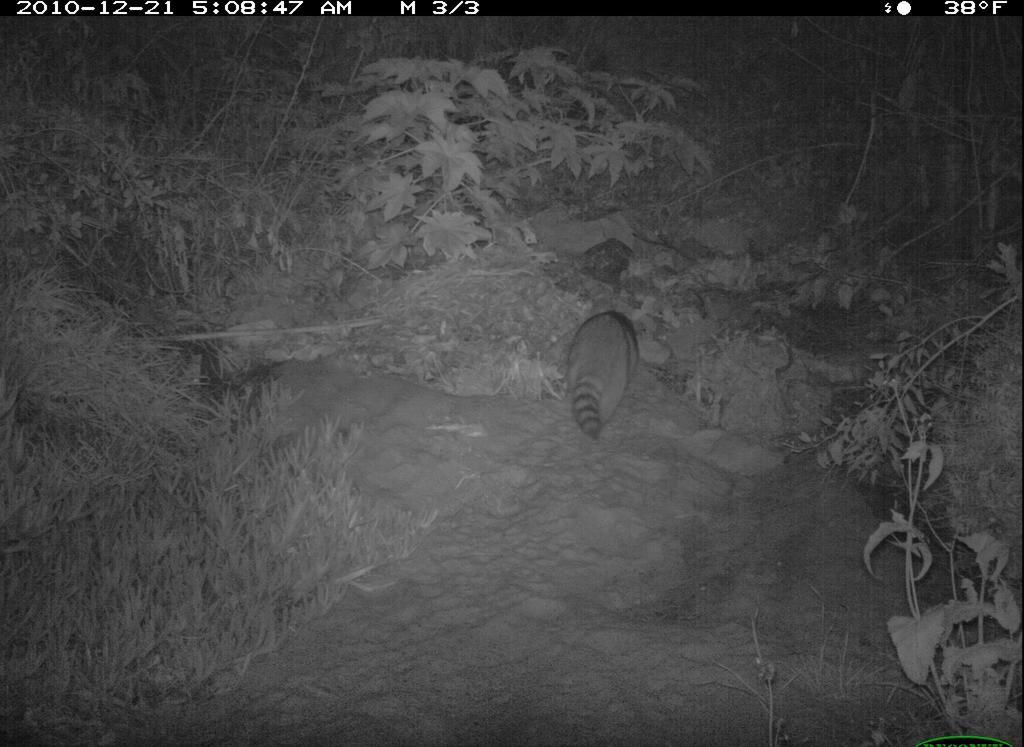raccoon: (560, 301, 649, 450)
